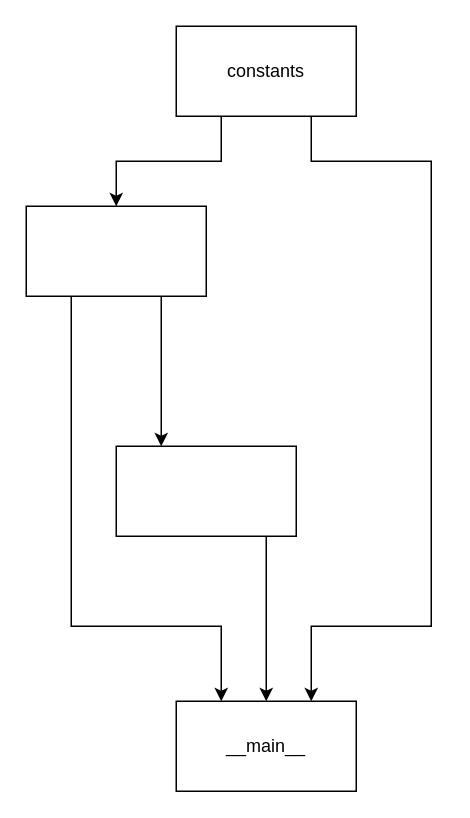
Some shapes in this 470 by 818 pixel diagram are drawn without their labels. The centre of each missing label's shape, as x and y in pixels:
resources: point (205, 490)
utils: point (115, 250)
